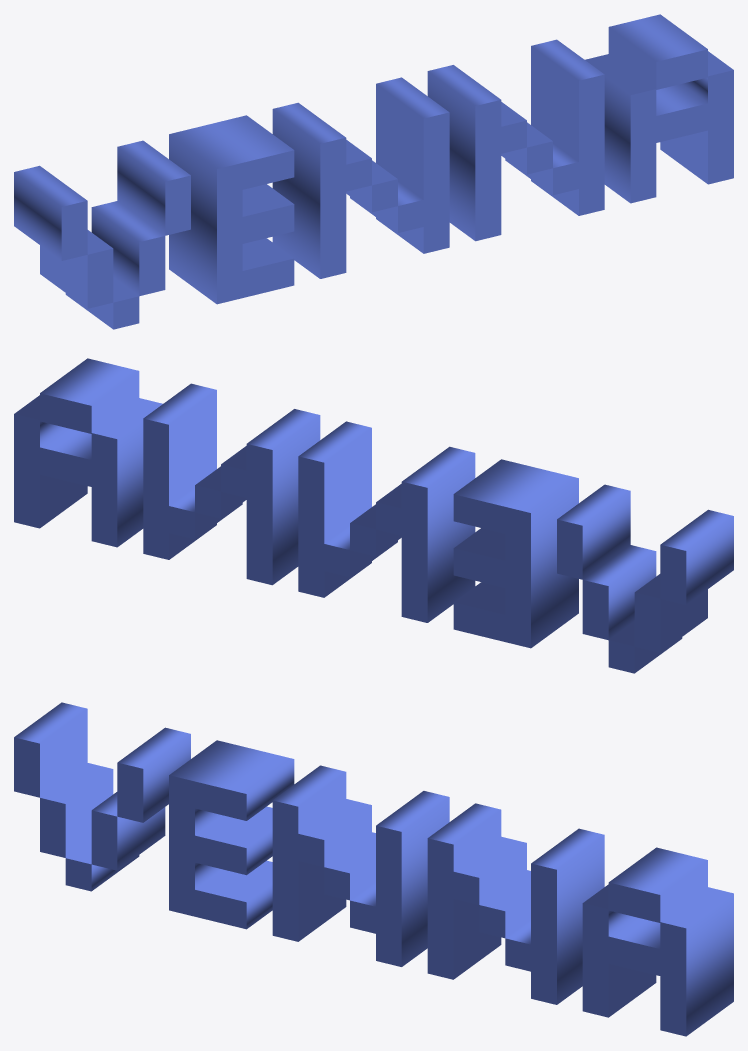
Rendered from VENNA_TEXT.glb.
3 views of the same model, one above another, from view 1: azimuth 30°, elevation 25°; view 2: azimuth 150°, elevation 25°; view 3: azimuth 330°, elevation 25° (orthographic).
Visible parts, largest first — view 1: Text; view 2: Text; view 3: Text.
Boxes of the visible parts, x1=… form: Text: x1=14, y1=14, x2=733, y2=329; Text: x1=14, y1=358, x2=733, y2=673; Text: x1=14, y1=702, x2=733, y2=1036.
Bounding box in the file's own units: 2.6 × 0.5 × 0.32.
